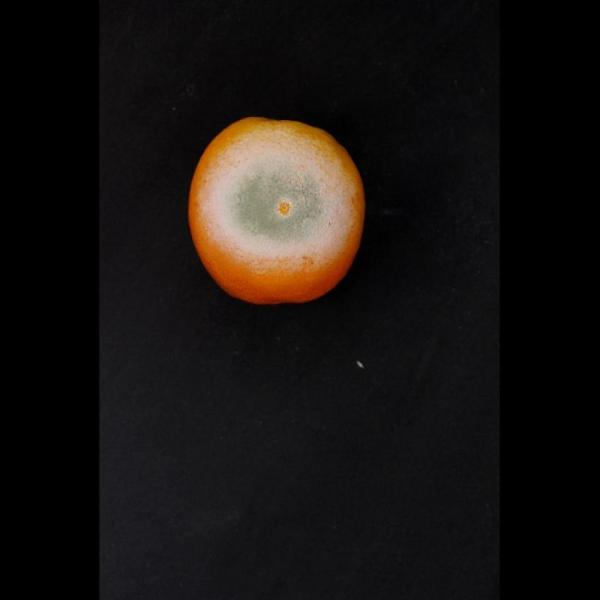Moho verde: (181, 107, 376, 319)
